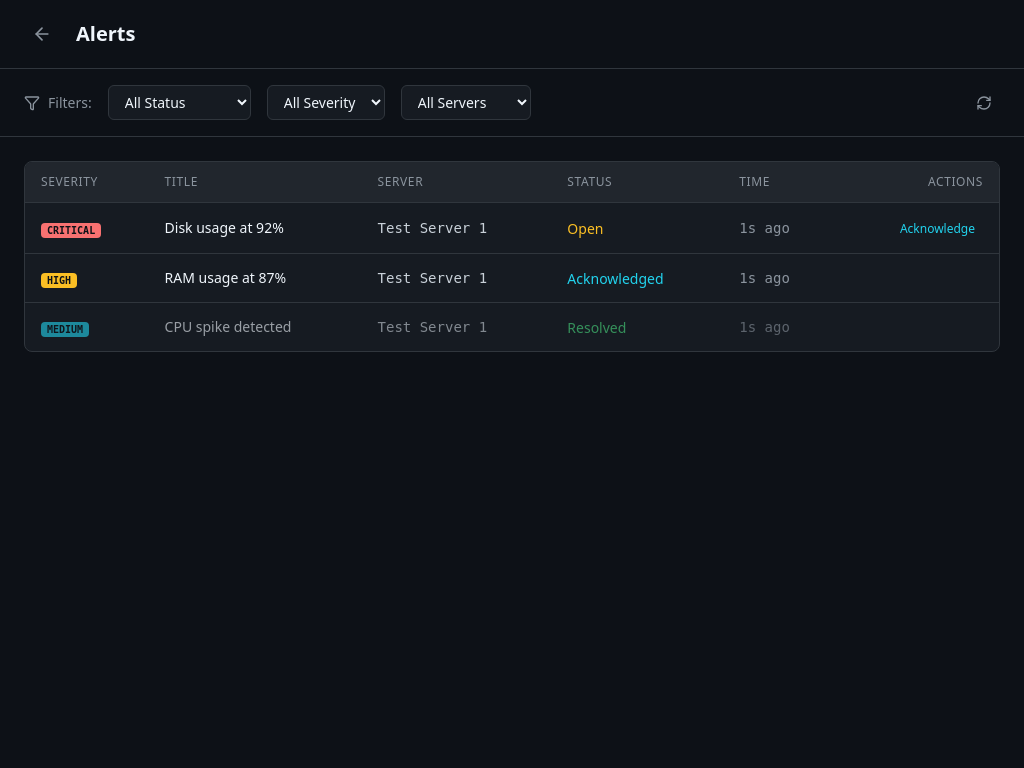
Test: AlertsPage › Alert detail view (AC4) › opens detail panel when clicking alert row
What coordinates should you click on to do the following:
click the row with test id "alert-row-1"
I would click on:
 (512, 228)
Its box is [25, 202, 999, 254].
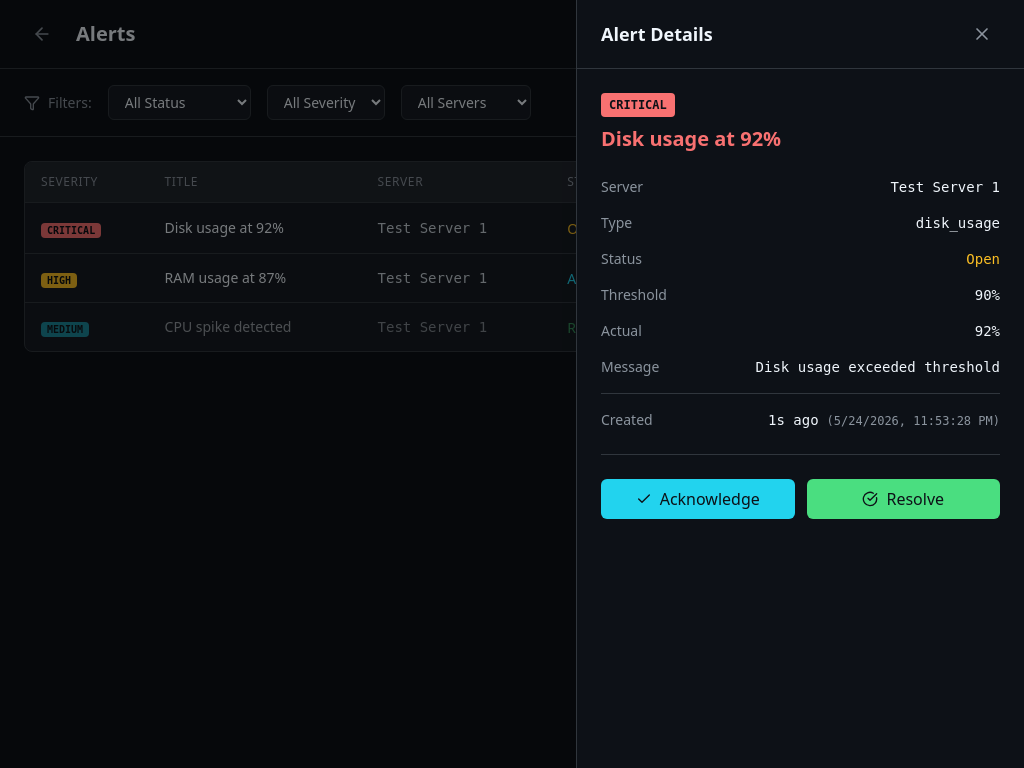
Expected: the element with test id "alert-detail-panel" is shown, [576, 0, 1023, 767]
